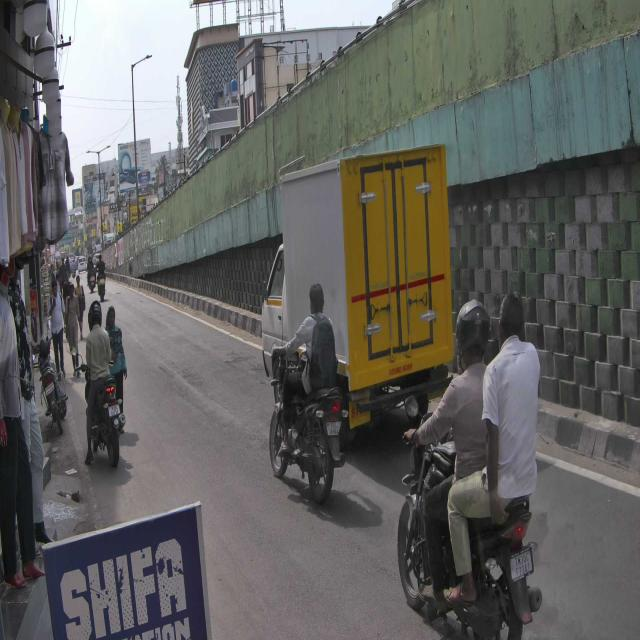double_rider: (396, 288, 544, 640)
single_rider: (268, 282, 346, 501)
